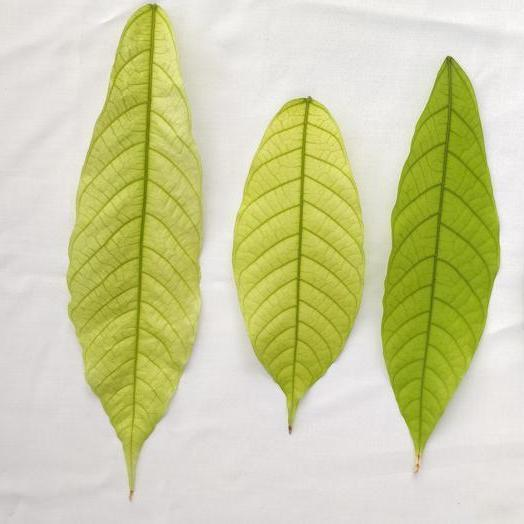Iron: (68, 4, 200, 495), (383, 56, 499, 470), (233, 98, 363, 432)
